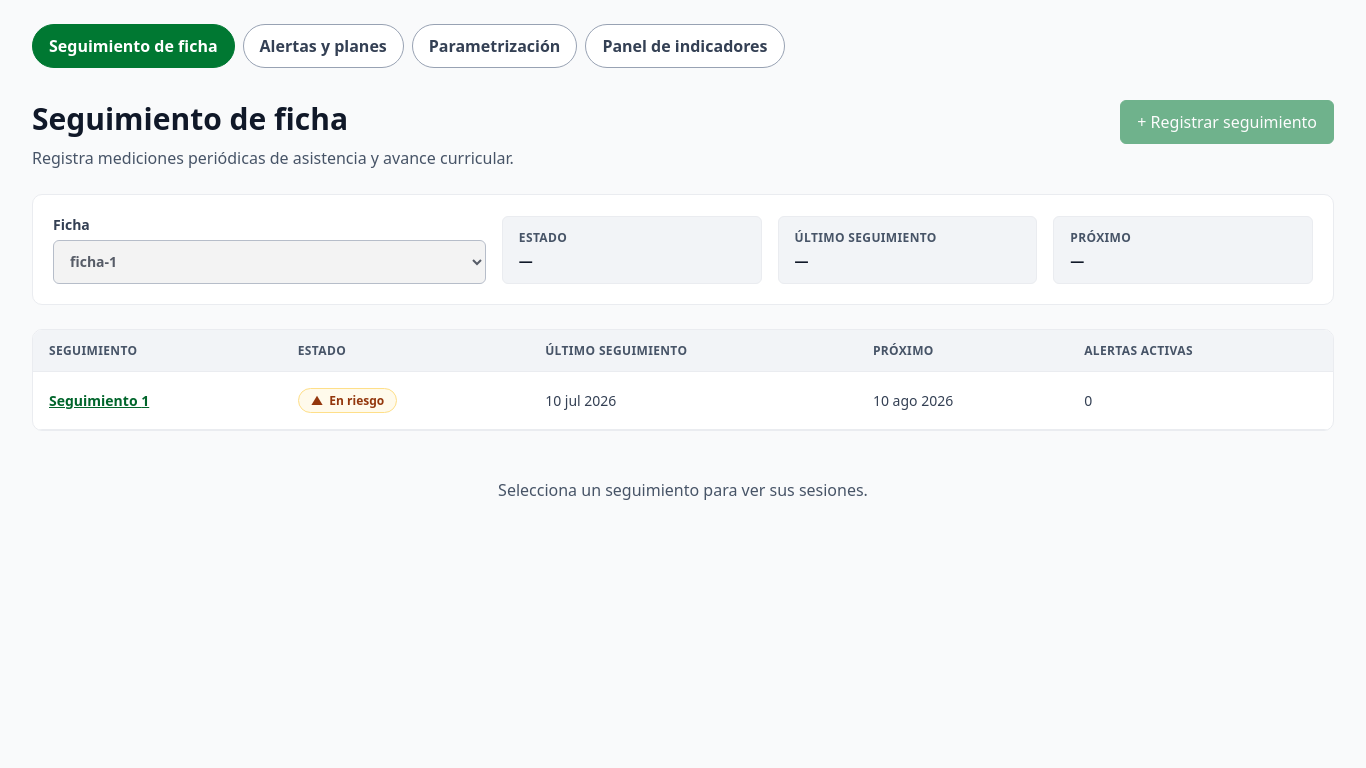
Test case: HU-MON-007 devolucion de QA › 2. detalle de sesion › muestra el error dentro del modal
What coordinates should you click on to do the following:
click the button with aria-label "Abrir seguimiento 1"
I would click on:
 (99, 400)
Its box is x1=49 y1=390 x2=149 y2=410.
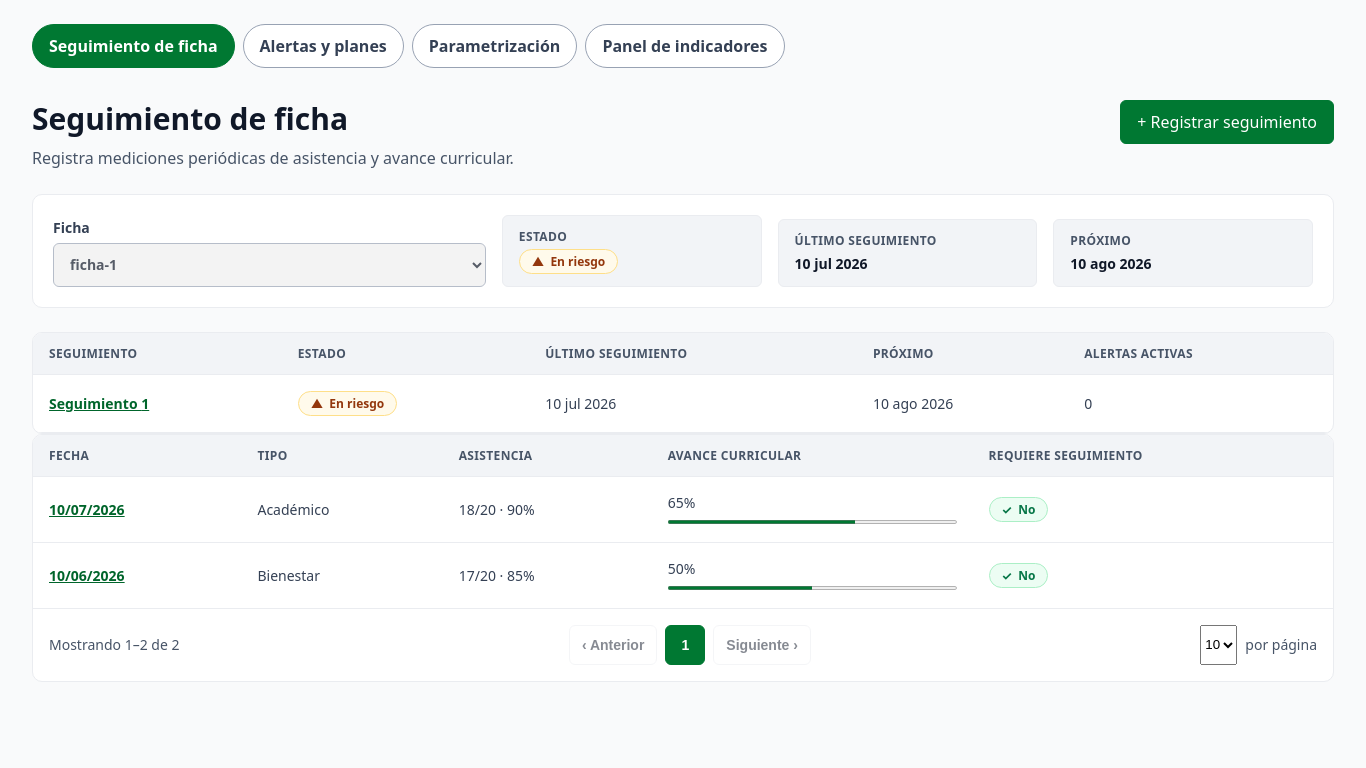
Expected: the text "Académico" is shown, x1=242 y1=476 x2=443 y2=542
What coordinates should you click on to do the following:
click the button "10/07/2026"
I would click on:
 (87, 509)
Its box is x1=49 y1=500 x2=125 y2=518.
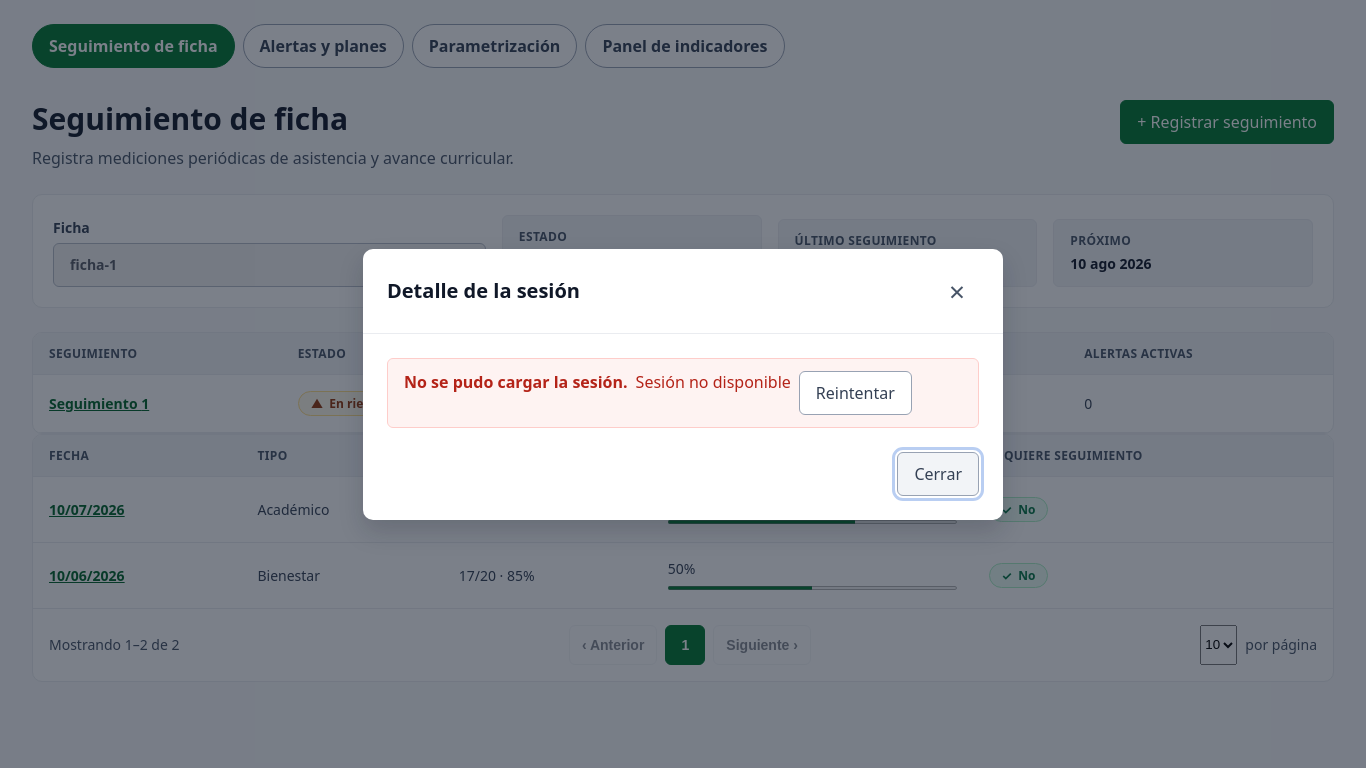
Expected: the text "No se pudo cargar la sesión." is shown, x1=404 y1=370 x2=628 y2=392
Expected: the text "Sesión no disponible" is shown, x1=636 y1=370 x2=791 y2=392
Expected: the button "Reintentar" is shown, x1=799 y1=370 x2=912 y2=414
